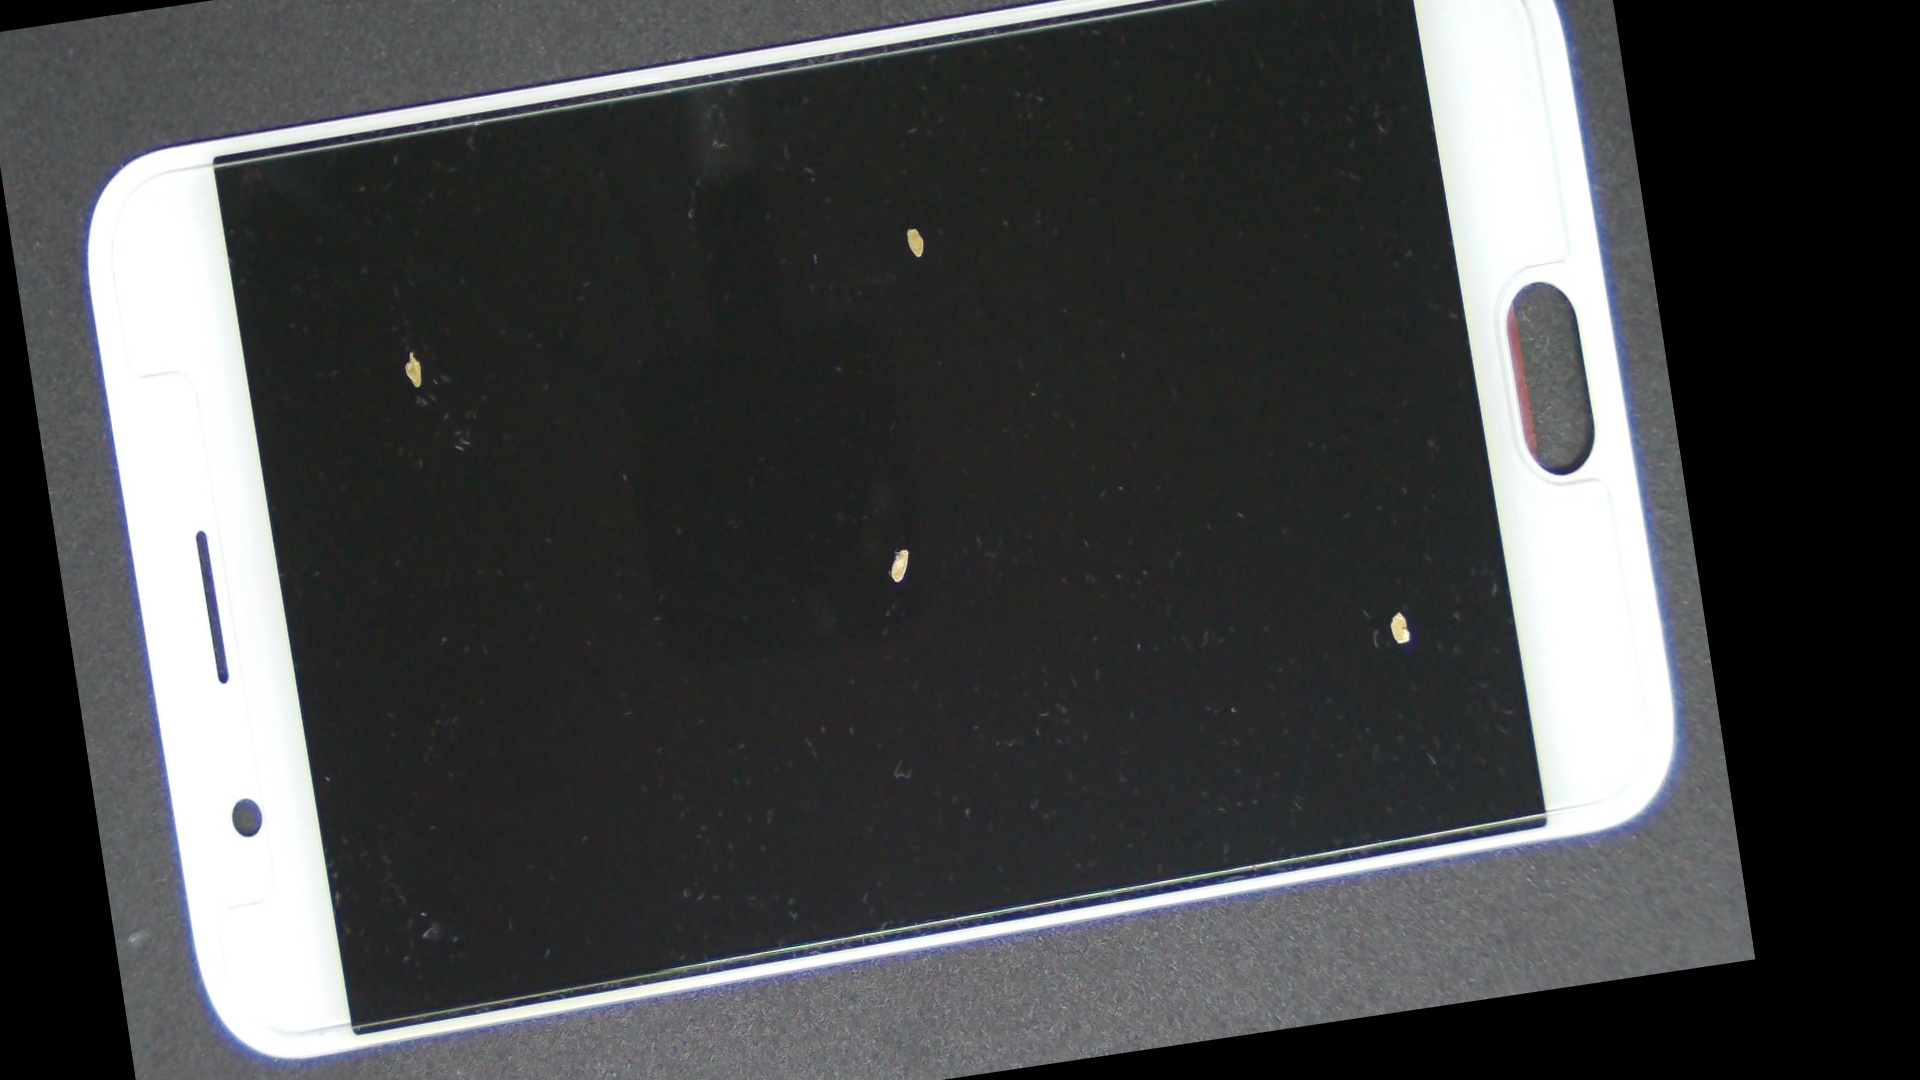oil: (688, 181, 1754, 1080), (439, 169, 1352, 927), (444, 0, 1371, 452), (195, 136, 622, 563)
